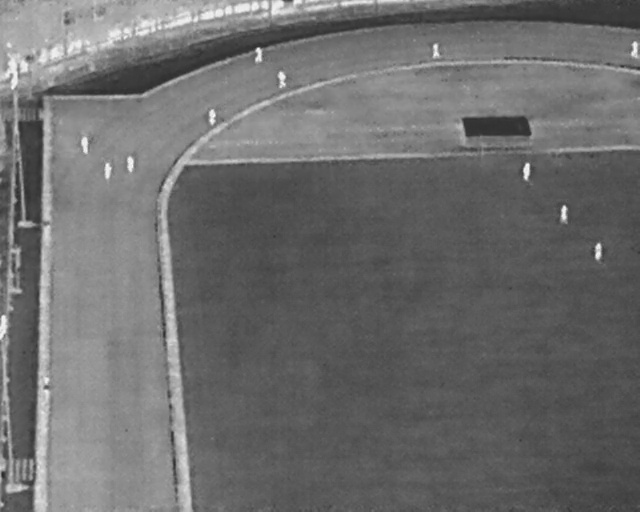Person: (103, 161, 113, 181), (277, 71, 287, 90), (42, 380, 51, 400), (560, 205, 569, 225), (126, 155, 135, 173), (81, 135, 89, 155), (523, 162, 531, 182), (631, 40, 639, 59), (208, 108, 216, 126), (432, 43, 441, 59), (255, 47, 263, 64), (595, 242, 602, 261)
